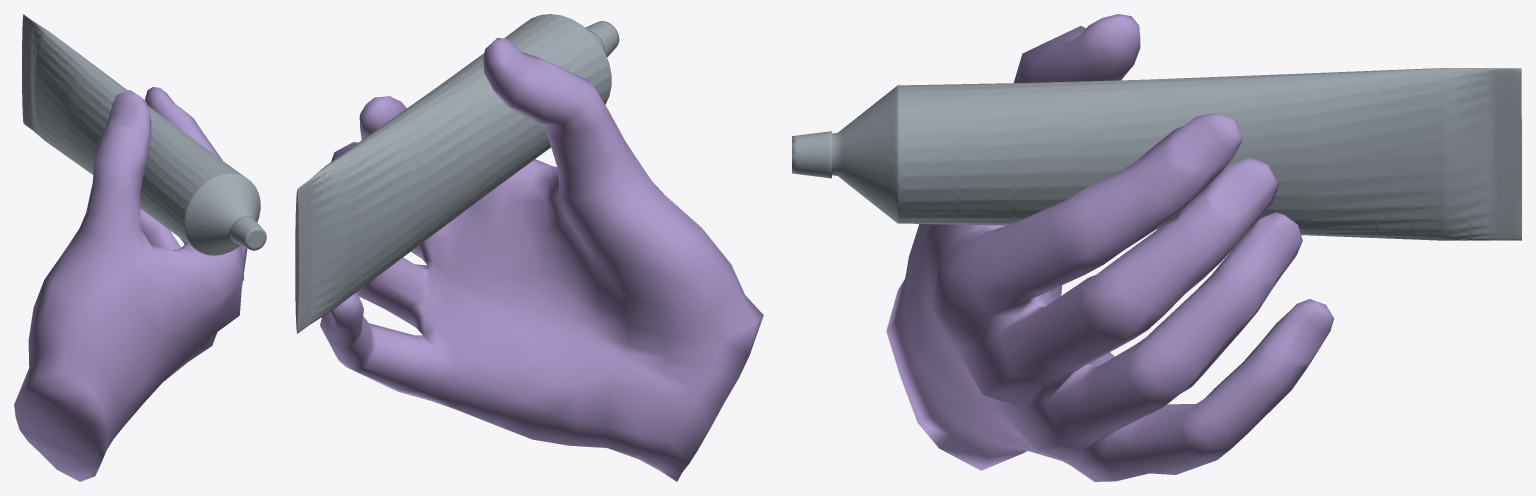
File: grasp_0.glb
3 renders of one model, left to right at view 1: azimuth 30°, elevation 25°; view 2: azimuth 150°, elevation 25°; view 3: azimuth 270°, elevation 25°, orthographic. The views are drawn at different scales.
Bounding box in the file's own units: 0.1342 × 0.1607 × 0.202.
